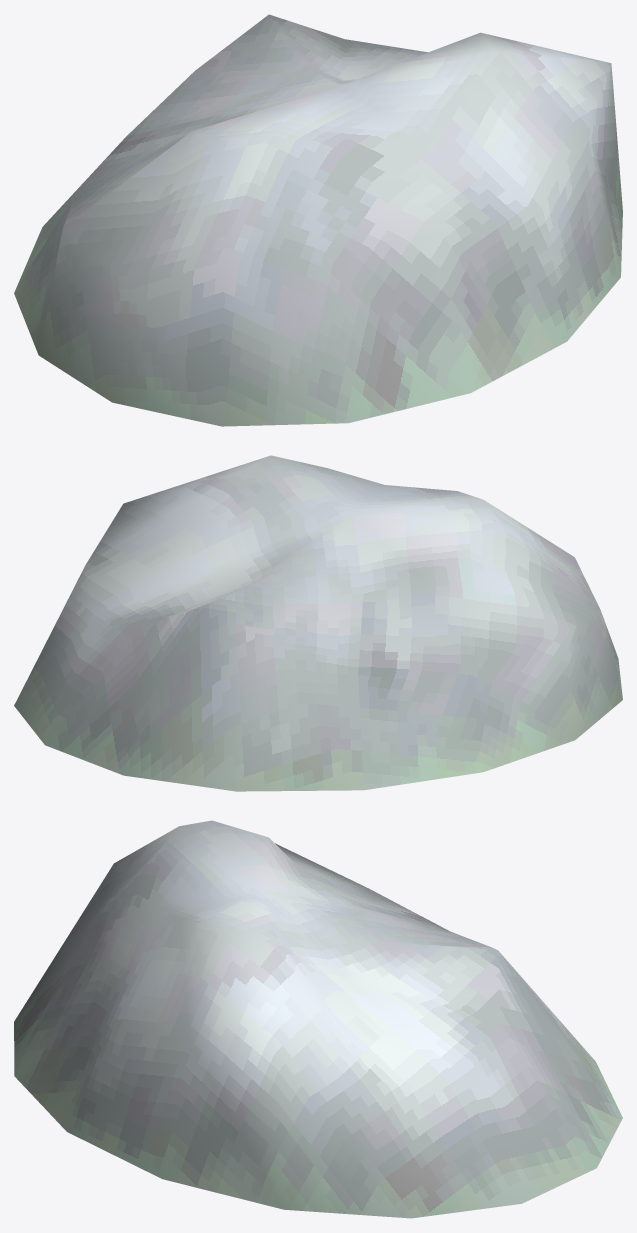
The model's file is TROLLHOLE02_STONEA04.fbx.
3 views of the same model, one above another, from view 1: azimuth 30°, elevation 25°; view 2: azimuth 150°, elevation 25°; view 3: azimuth 270°, elevation 25° (orthographic). The views are drawn at different scales.
Visible parts, largest first — view 1: TROLLHOLE02_STONEA04; view 2: TROLLHOLE02_STONEA04; view 3: TROLLHOLE02_STONEA04.
Part boxes in pixels (x1,y1,x2,y2): TROLLHOLE02_STONEA04: [14, 14, 622, 426]; TROLLHOLE02_STONEA04: [14, 455, 622, 791]; TROLLHOLE02_STONEA04: [14, 820, 622, 1218].
Bounding box in the file's own units: 9842 × 3541 × 9408.
Materials: 1 (1 with a texture image).
